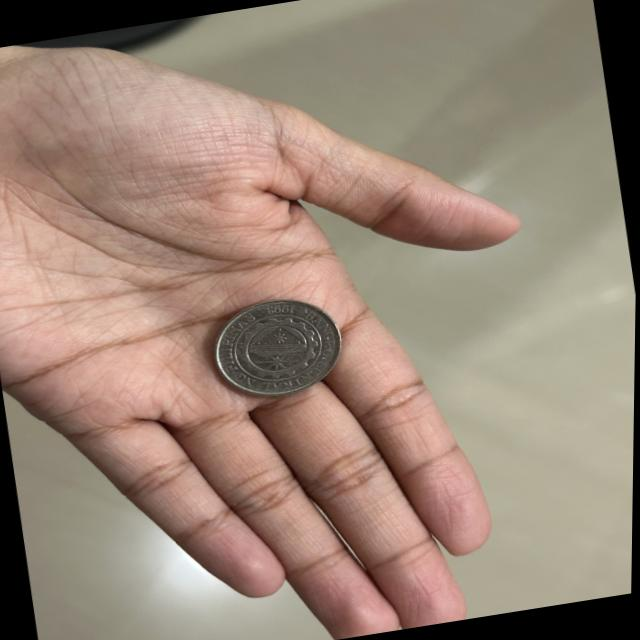1_Old_Back: (223, 304, 326, 388)
